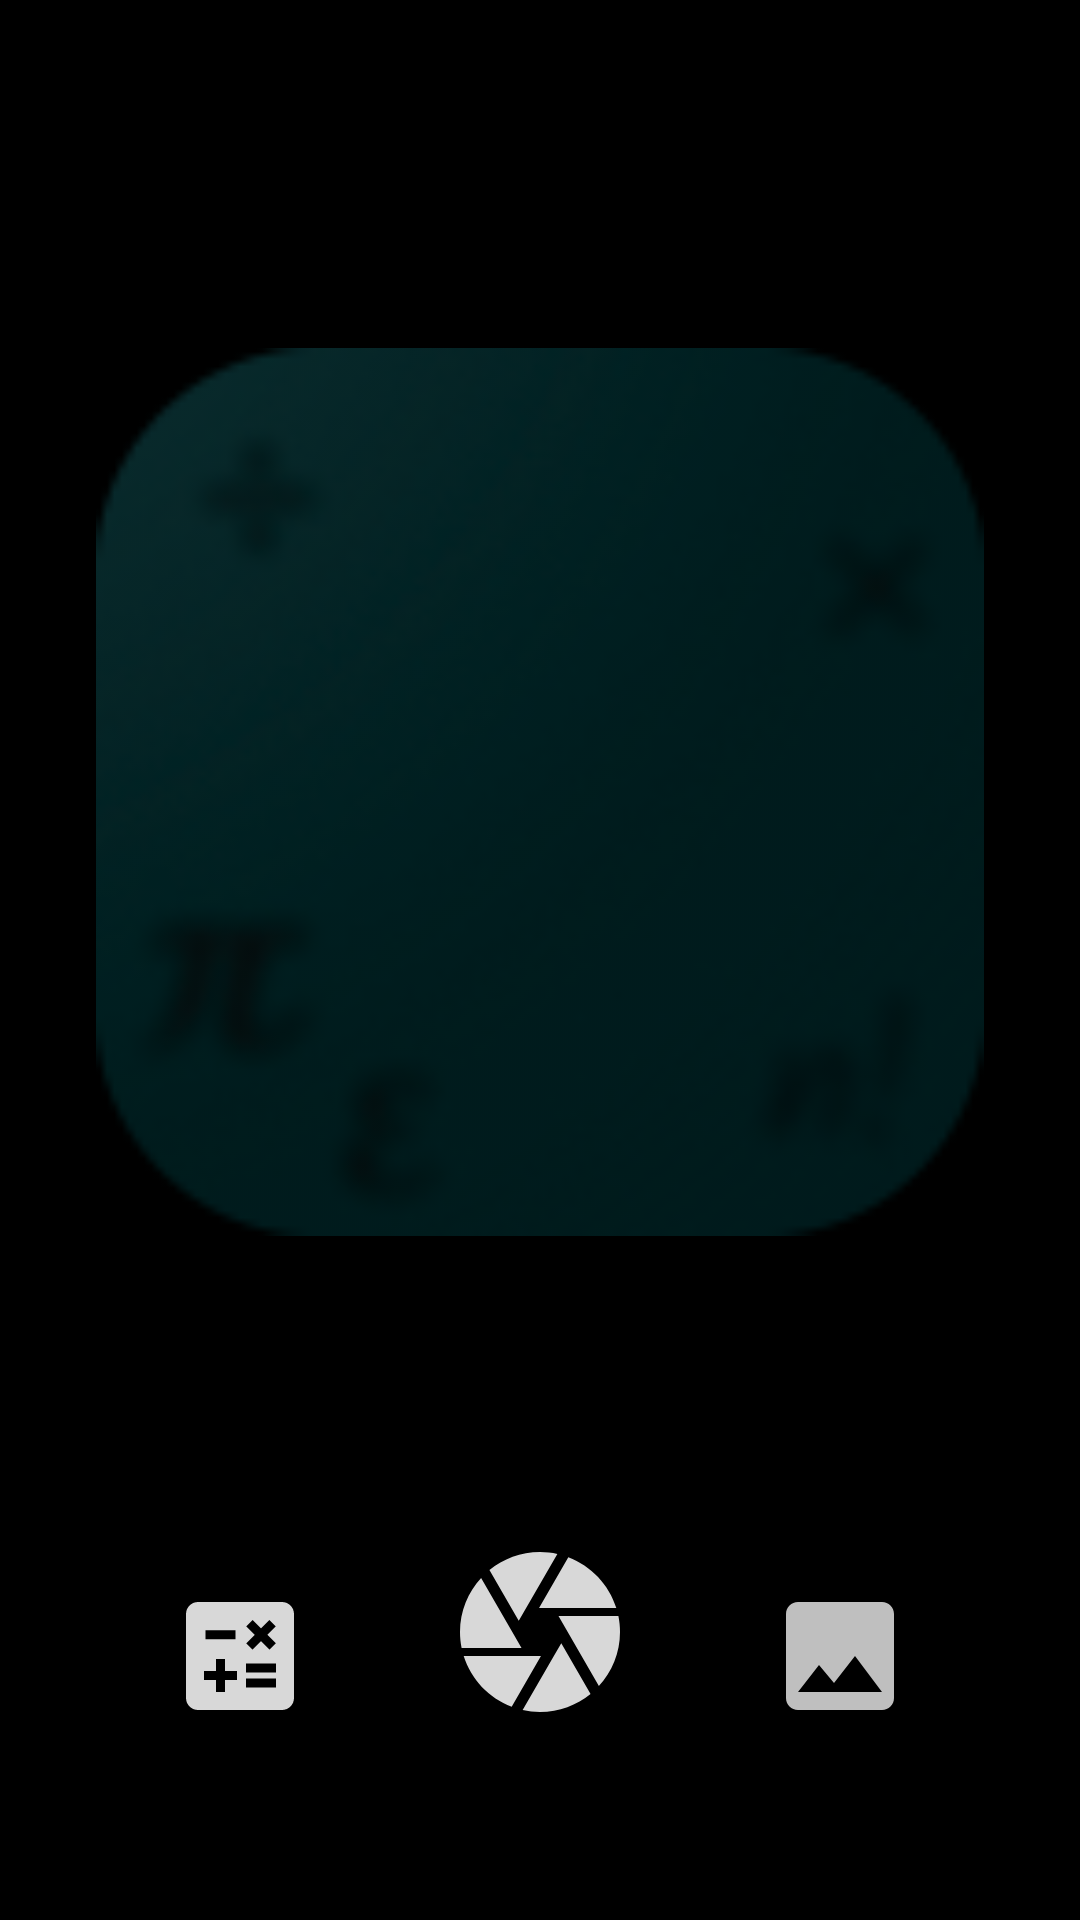

Icon bounding boxes for this 1080 x 1920 phone screenshot, format (x1, y1, x2, y2):
calculate: (186, 1602, 294, 1710)
camera: (460, 1552, 620, 1712)
